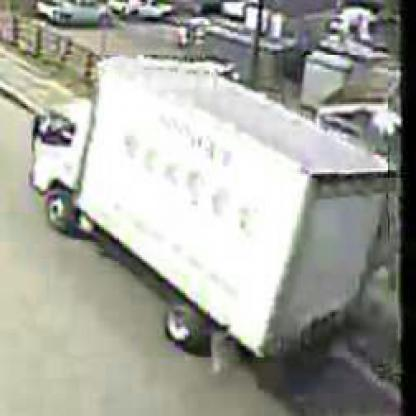truck: (28, 56, 391, 360)
